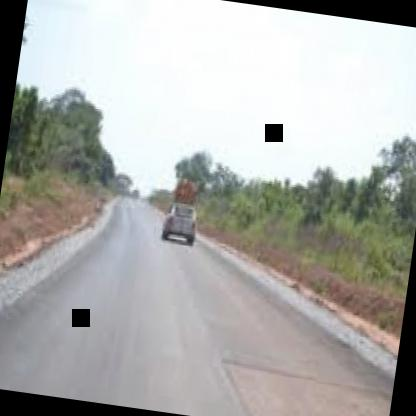car: (153, 188, 209, 257)
